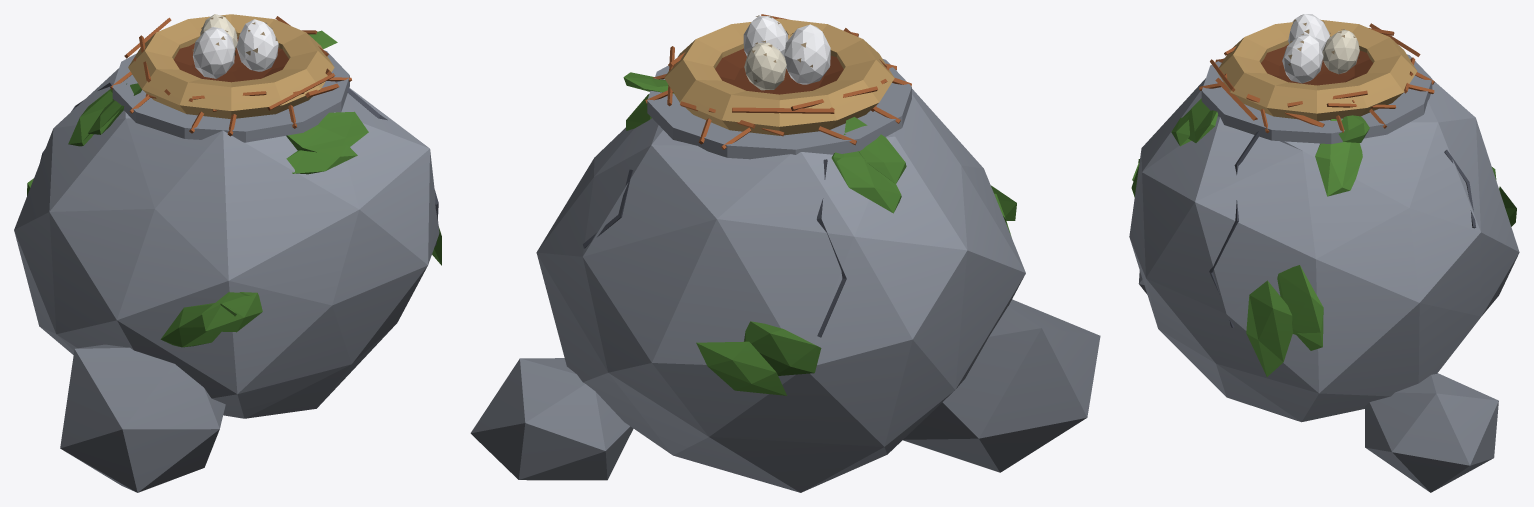
Rendered from egg_nest.fbx.
3 views of the same model, side by side, from view 1: azimuth 30°, elevation 25°; view 2: azimuth 150°, elevation 25°; view 3: azimuth 270°, elevation 25° (orthographic). The views are drawn at different scales.
Parts seen in each view (by area): view 1: egg_nest_Rock, egg_nest_NestRing, egg_nest_Moss, egg_nest_Eggs, egg_nest_Twigs, egg_nest_Lining, egg_nest_EggCream; view 2: egg_nest_Rock, egg_nest_NestRing, egg_nest_Moss, egg_nest_Eggs, egg_nest_Twigs, egg_nest_Lining, egg_nest_EggCream, egg_nest_Cracks; view 3: egg_nest_Rock, egg_nest_NestRing, egg_nest_Moss, egg_nest_Eggs, egg_nest_Twigs, egg_nest_Lining, egg_nest_EggCream, egg_nest_Cracks.
Boxes of the visible parts, box(x1,y1,x2,y2) form: egg_nest_Rock: box(14, 50, 439, 492); egg_nest_NestRing: box(128, 14, 334, 118); egg_nest_Moss: box(27, 30, 441, 347); egg_nest_Eggs: box(193, 19, 278, 78); egg_nest_Twigs: box(110, 16, 351, 136); egg_nest_Lining: box(173, 37, 288, 82); egg_nest_EggCream: box(200, 14, 237, 50); egg_nest_Rock: box(470, 59, 1100, 492); egg_nest_NestRing: box(664, 18, 894, 135); egg_nest_Moss: box(623, 72, 1016, 395); egg_nest_Eggs: box(743, 16, 830, 84); egg_nest_Twigs: box(645, 14, 911, 149); egg_nest_Lining: box(715, 48, 843, 94); egg_nest_EggCream: box(744, 42, 786, 90); egg_nest_Cracks: box(583, 159, 846, 337); egg_nest_Rock: box(1129, 54, 1519, 492); egg_nest_NestRing: box(1217, 19, 1417, 121); egg_nest_Moss: box(1131, 98, 1516, 376); egg_nest_Eggs: box(1282, 14, 1330, 83); egg_nest_Twigs: box(1199, 23, 1434, 133); egg_nest_Lining: box(1261, 44, 1373, 85); egg_nest_EggCream: box(1322, 29, 1359, 74); egg_nest_Cracks: box(1209, 131, 1476, 327).
Size of what is drawn, in the model's own units: 12.02 by 10.81 by 9.91.
